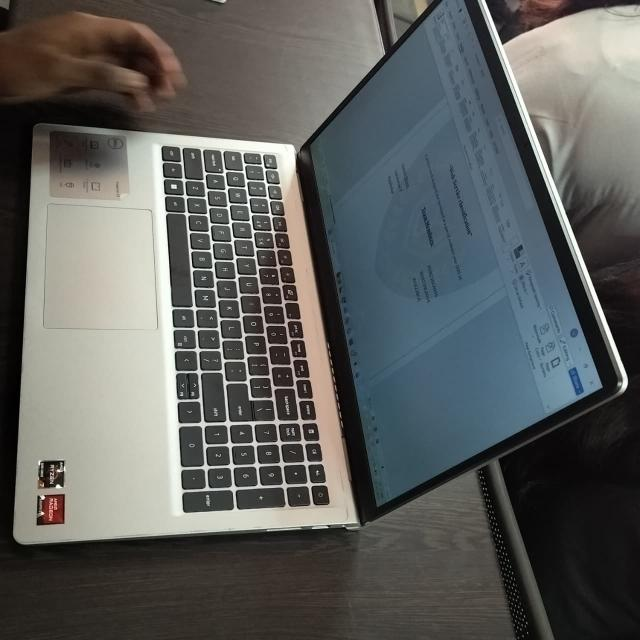laptop: (13, 9, 615, 551)
